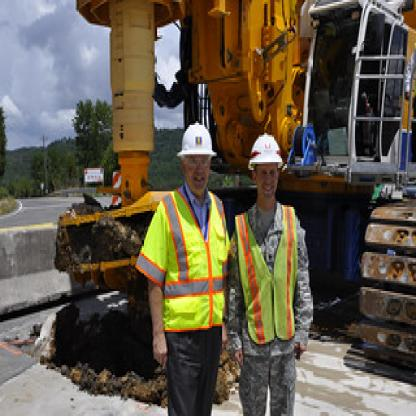person: (226, 117, 314, 404), (144, 125, 225, 402)
